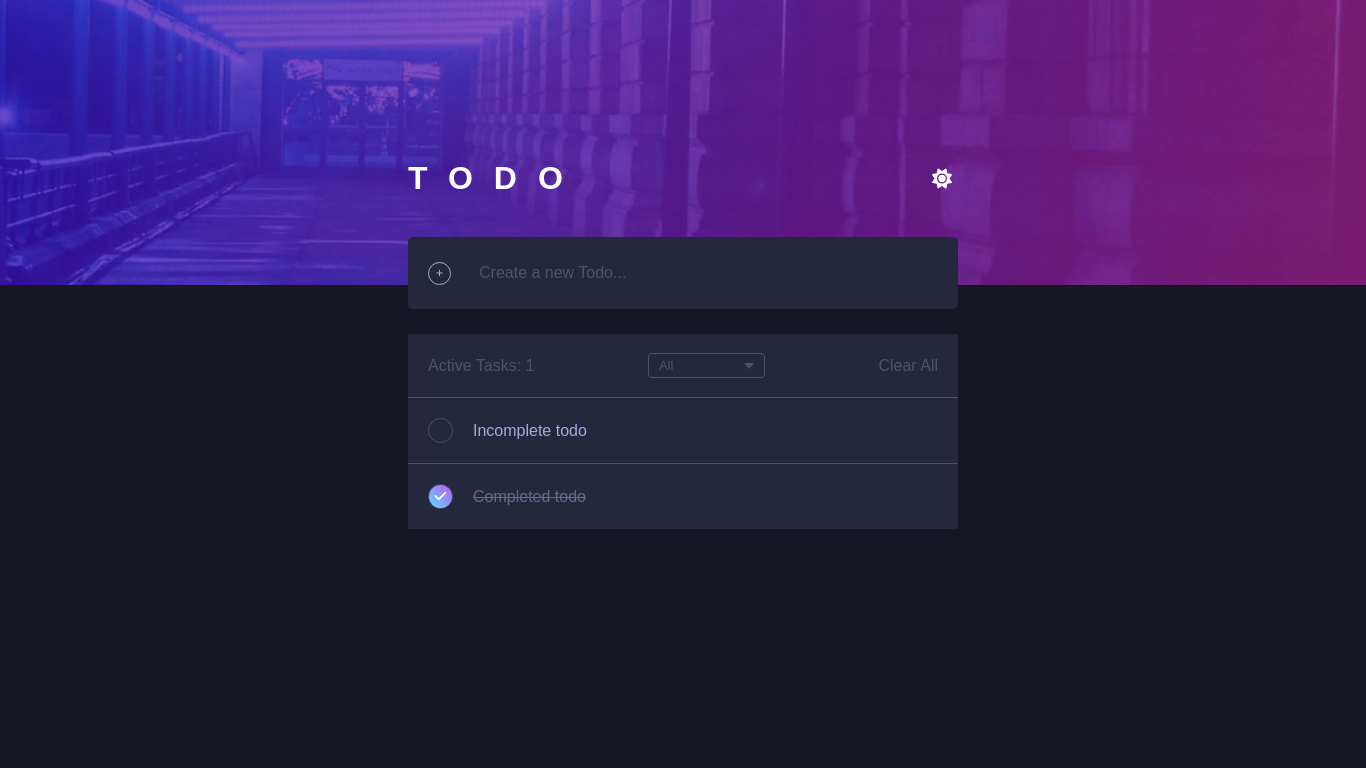
Scenario: filter › shows only completed todos when filter is "completed"
The image size is (1366, 768).
Select "Completed" in the dropdown at (706, 366), box [648, 353, 765, 378]
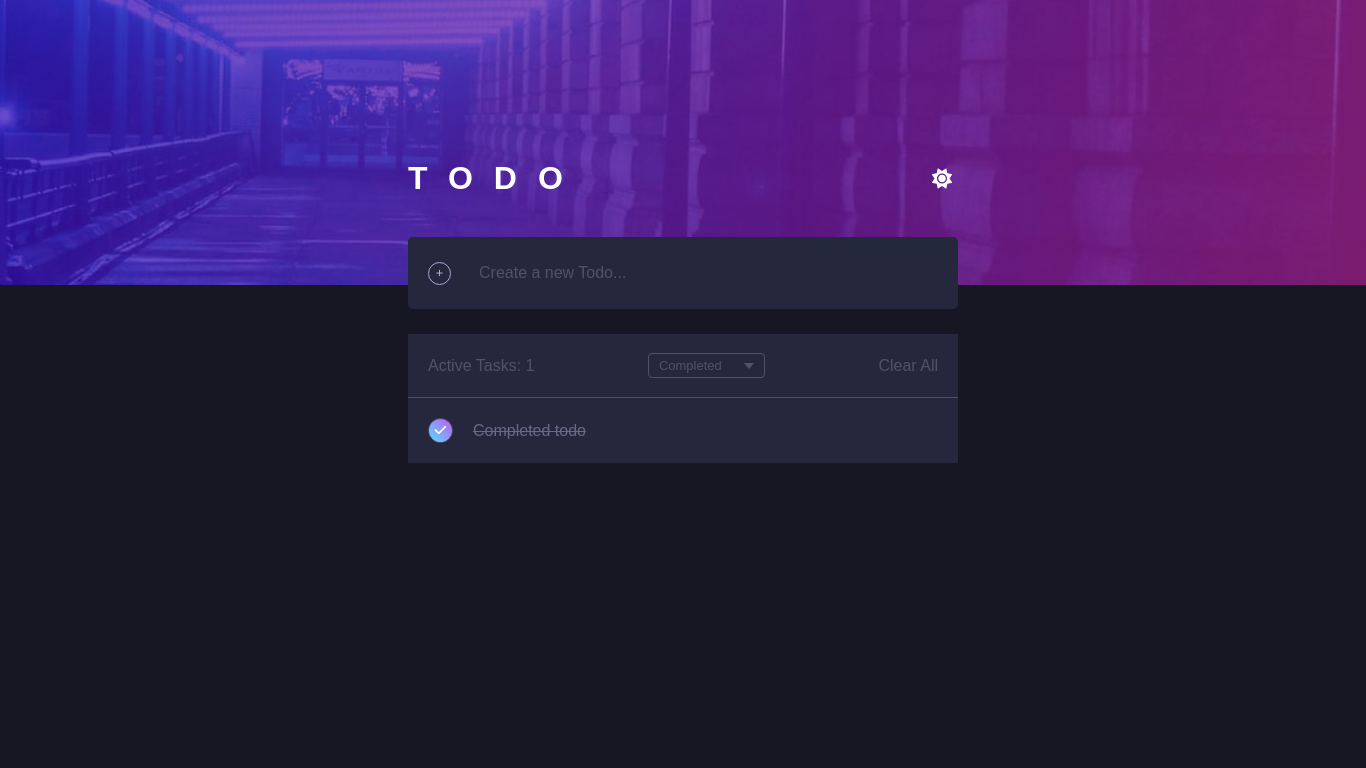
Expected: the text "Completed todo" is shown, [473, 422, 586, 438]
Expected: the text "Incomplete todo" is gone
